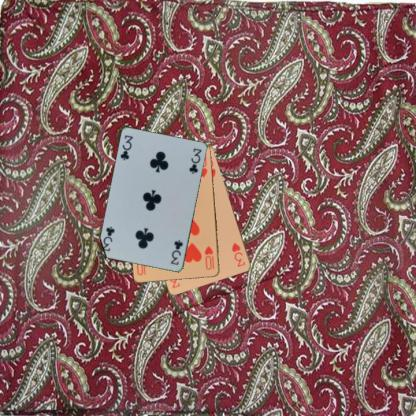10h: (202, 243, 216, 271)
3c: (168, 237, 184, 266), (118, 133, 134, 162)
3h: (229, 240, 247, 268)
